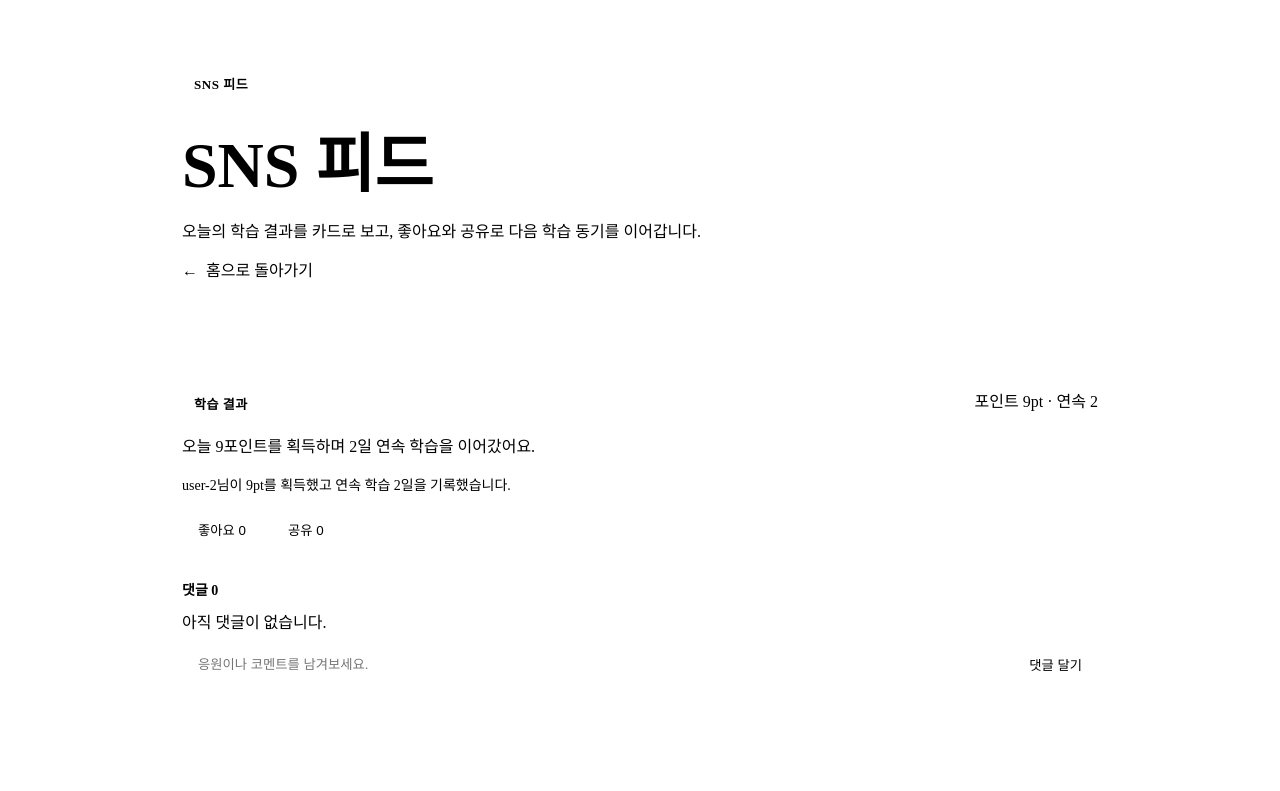
Test case: feed ui › falls back to an external share url when web share is unavailable
Click the button with aria-label "공유 post-external-share" at coordinates (306, 530), box [272,508,340,551]
(page scrolled)
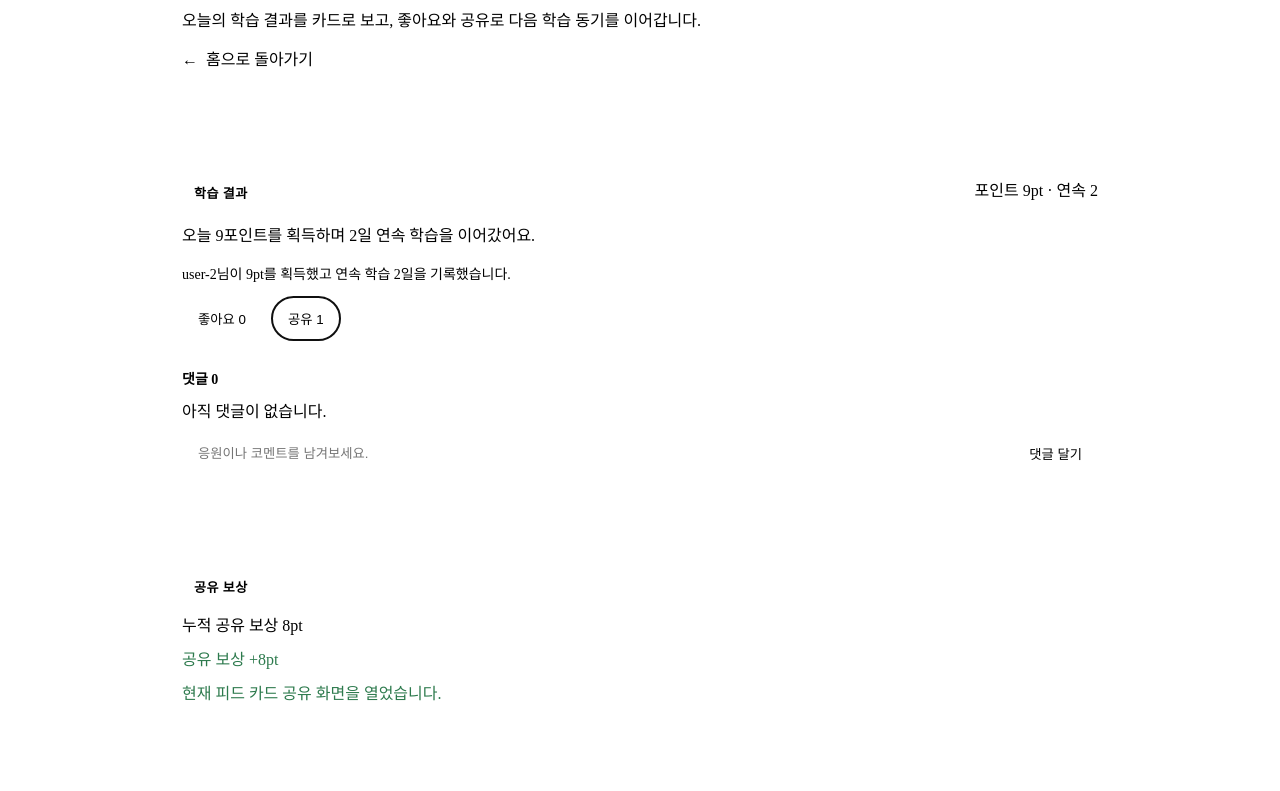
Check: the text "user-2님이 9pt를 획득했고 연속 학습 2일을 기록했습니다." is shown, box [182,267,511,282]
Check: the message "현재 피드 카드 공유 화면을 열었습니다." is shown, box [182,685,442,702]
